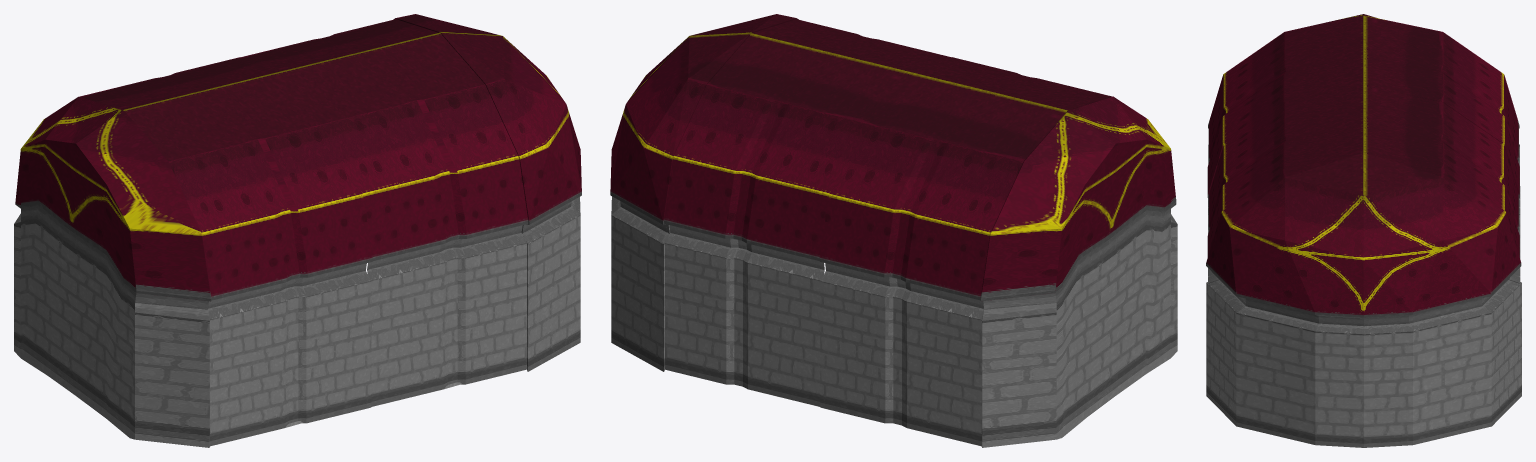
The model's file is manor_frame_4.fbx.
3 views of the same model, side by side, from view 1: azimuth 30°, elevation 25°; view 2: azimuth 150°, elevation 25°; view 3: azimuth 270°, elevation 25° (orthographic). The views are drawn at different scales.
Parts seen in each view (by area): view 1: Icosphere.007; view 2: Icosphere.007; view 3: Icosphere.007.
Part boxes in pixels (x1,y1,x2,y2): Icosphere.007: (14,14,581,447); Icosphere.007: (610,14,1177,447); Icosphere.007: (1206,14,1521,447).
Size of the model in its own units: 5608 by 3057 by 3556.
